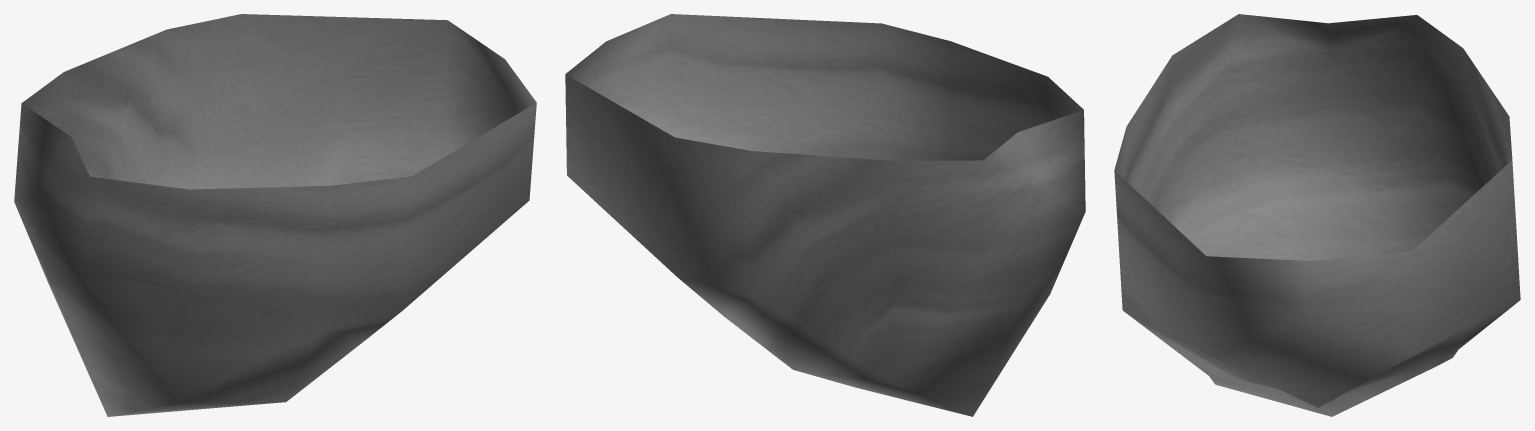
The model's file is Stone_03.fbx.
3 views of the same model, side by side, from view 1: azimuth 30°, elevation 25°; view 2: azimuth 150°, elevation 25°; view 3: azimuth 270°, elevation 25° (orthographic). The views are drawn at different scales.
Parts seen in each view (by area): view 1: pSphere5; view 2: pSphere5; view 3: pSphere5.
Boxes of the visible parts, <box> form: pSphere5: <box>14,14,536,416</box>; pSphere5: <box>565,14,1085,416</box>; pSphere5: <box>1114,14,1520,416</box>.
Bounding box in the file's own units: 2.8 × 1.7 × 1.99.
